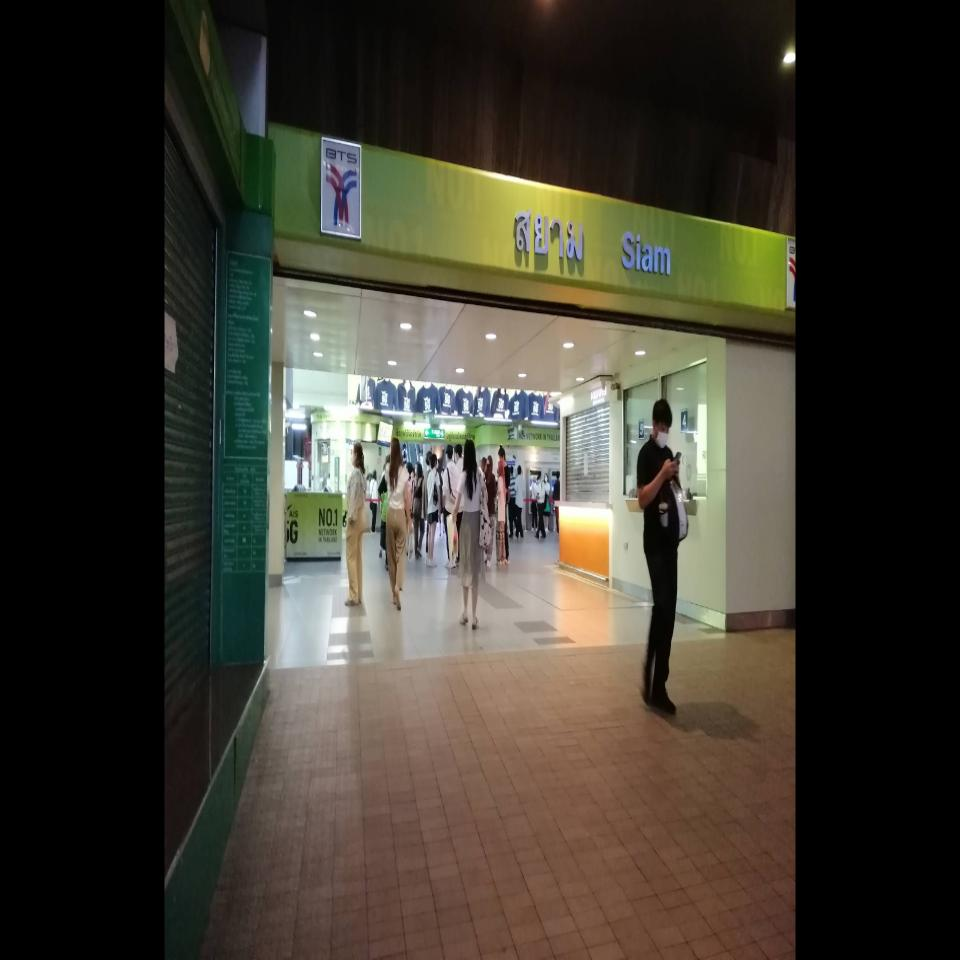signage: (320, 136, 674, 281), (514, 208, 672, 280)
